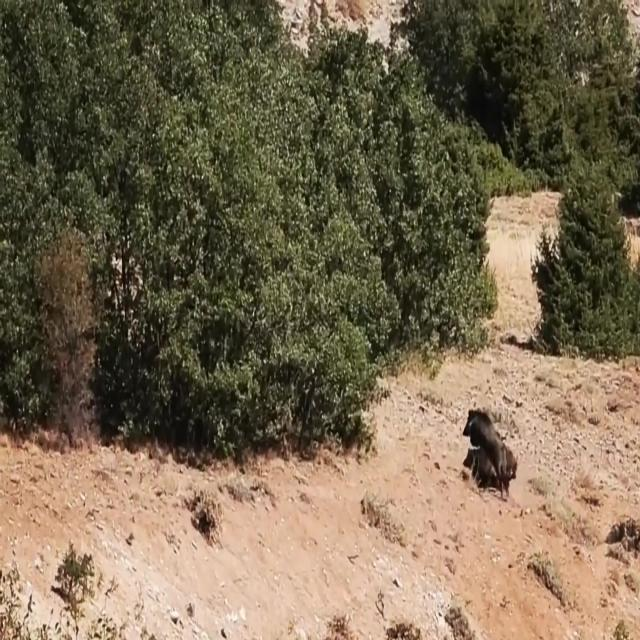pig: (455, 388, 522, 486)
